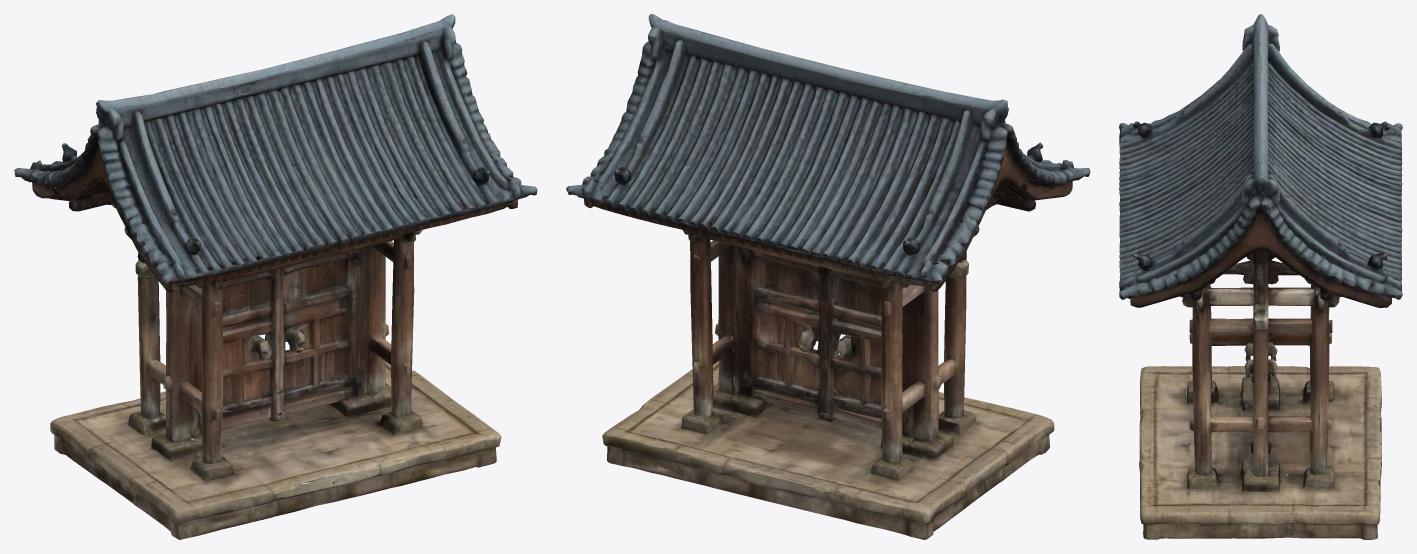
File: ARCH-016.glb
The picture shows the model from 3 angles, left to right: view 1: azimuth 30°, elevation 25°; view 2: azimuth 150°, elevation 25°; view 3: azimuth 270°, elevation 25°; orthographic projection. The views are drawn at different scales.
Parts seen in each view (by area): view 1: gate-building-fixed, gate-floor-platform, gate-door-right-visual, gate-door-left-visual; view 2: gate-building-fixed, gate-floor-platform, gate-door-right-visual, gate-door-left-visual; view 3: gate-building-fixed, gate-floor-platform, gate-door-left-visual, gate-door-right-visual.
Boxes of the visible parts, <box> form: gate-building-fixed: <box>14,14,537,515</box>; gate-floor-platform: <box>50,361,501,539</box>; gate-door-right-visual: <box>276,247,367,420</box>; gate-door-left-visual: <box>190,268,283,441</box>; gate-building-fixed: <box>566,14,1090,511</box>; gate-floor-platform: <box>602,361,1054,539</box>; gate-door-right-visual: <box>733,245,833,414</box>; gate-door-left-visual: <box>821,267,913,442</box>; gate-building-fixed: <box>1119,14,1402,495</box>; gate-floor-platform: <box>1139,366,1381,539</box>; gate-door-left-visual: <box>1244,259,1278,399</box>; gate-door-right-visual: <box>1244,334,1277,453</box>.
Size of the model in its own units: 5.42 by 5.5 by 3.8.
Materials: 1 (1 with a texture image).
